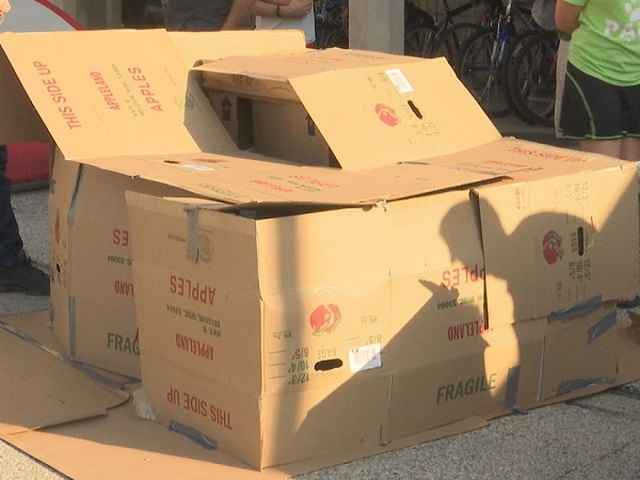bike: (444, 9, 533, 98)
box: (7, 29, 640, 468)
person: (553, 1, 640, 157)
